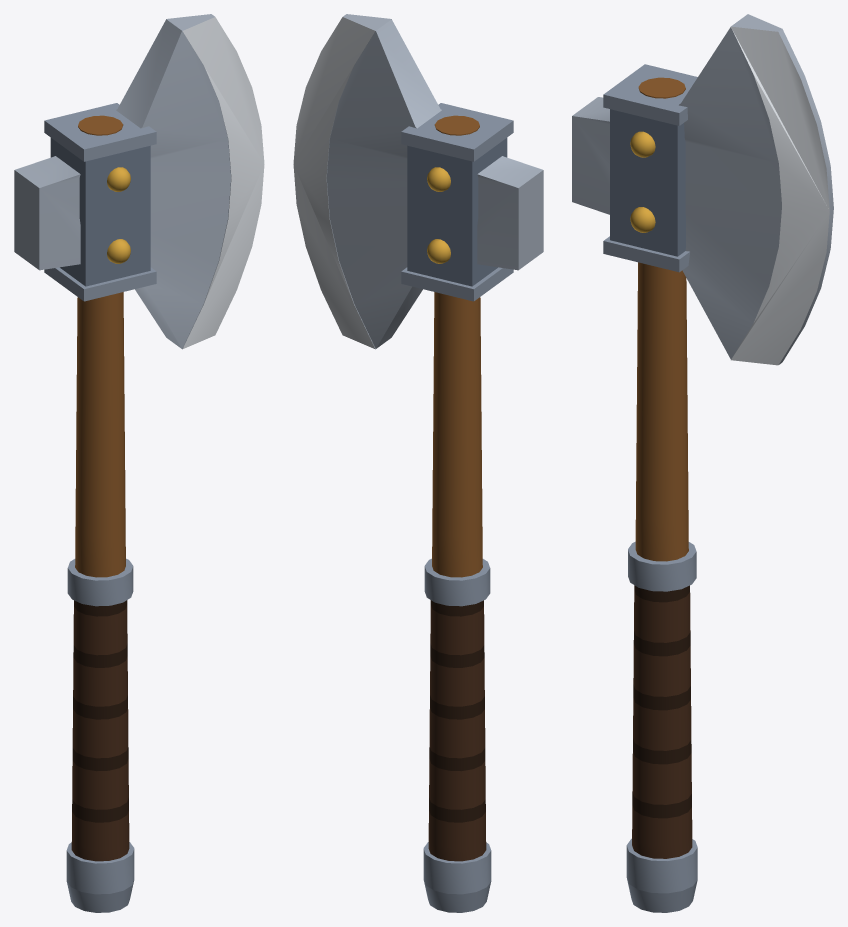
The picture shows the model from 3 angles, left to right: view 1: azimuth 30°, elevation 25°; view 2: azimuth 150°, elevation 25°; view 3: azimuth 330°, elevation 25°; orthographic projection. The views are drawn at different scales.
Parts seen in each view (by area): view 1: body; view 2: body; view 3: body.
Part boxes in pixels (x1,y1,x2,y2): body: (14, 14, 264, 912); body: (293, 14, 543, 912); body: (572, 14, 833, 912).
Size of the model in its own units: 0.24 by 0.835 by 0.0844.
Materials: 1 (1 with a texture image).
